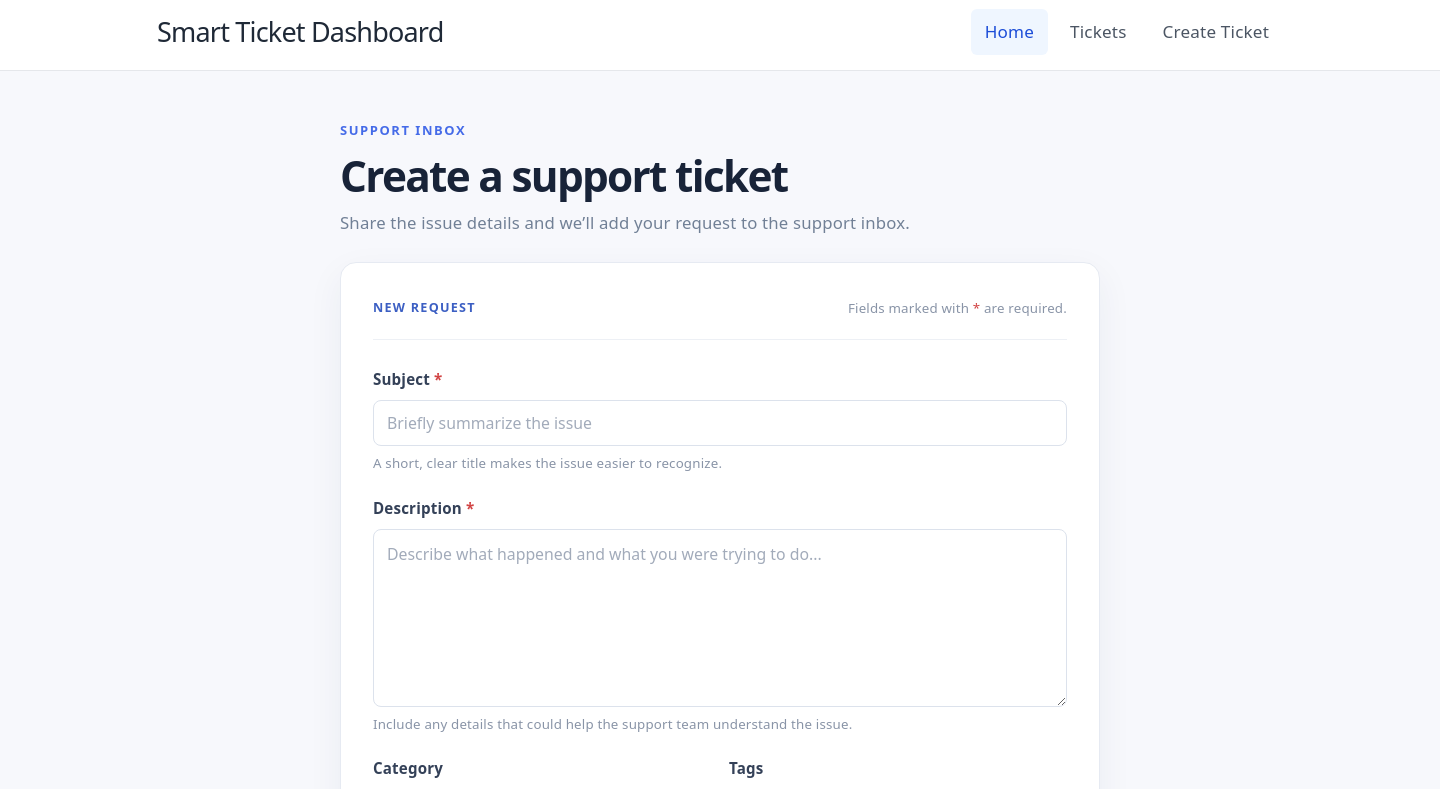
Scenario: TicketForm › shows the API error when ticket creation fails
Type "Login issue" into the field labelled "Subject *".
click(720, 423); type("Login issue")  # box x1=373 y1=400 x2=1067 y2=446
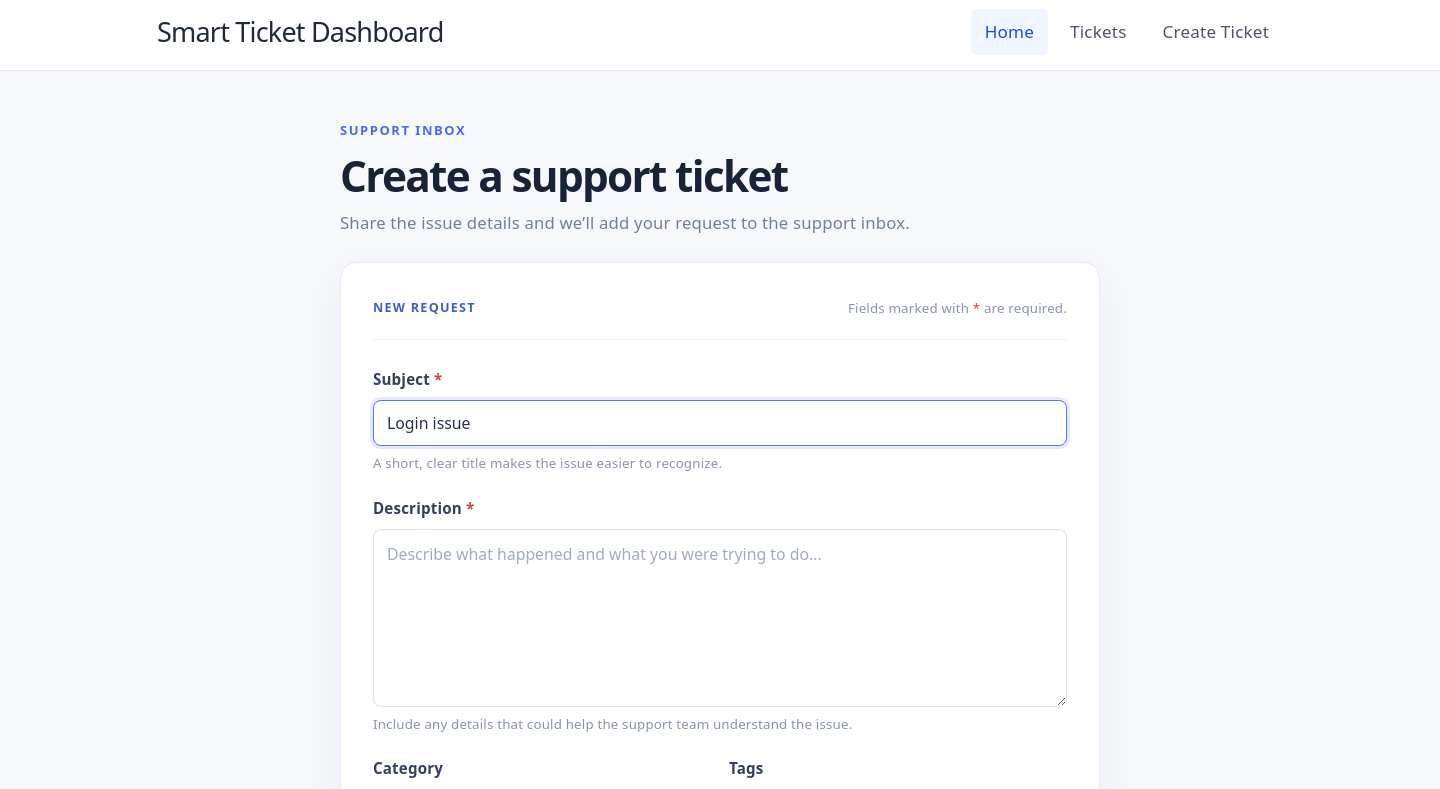
Type "Cannot sign in" into the text box labelled "Description *".
click(720, 618); type("Cannot sign in")  # box x1=373 y1=529 x2=1067 y2=707
(page scrolled)
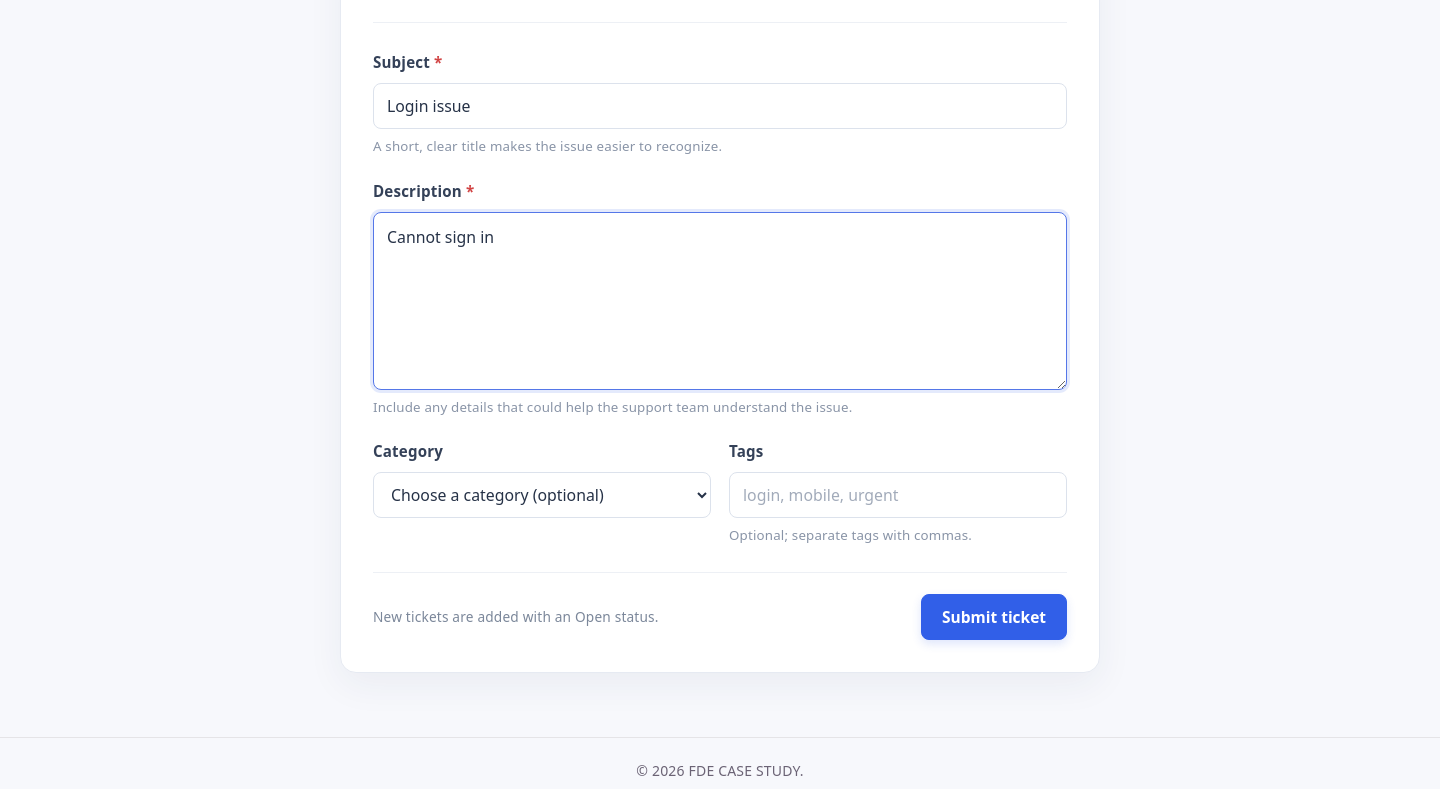
Click the button "Submit ticket".
click(994, 617)  # box x1=921 y1=594 x2=1067 y2=640
(page scrolled)
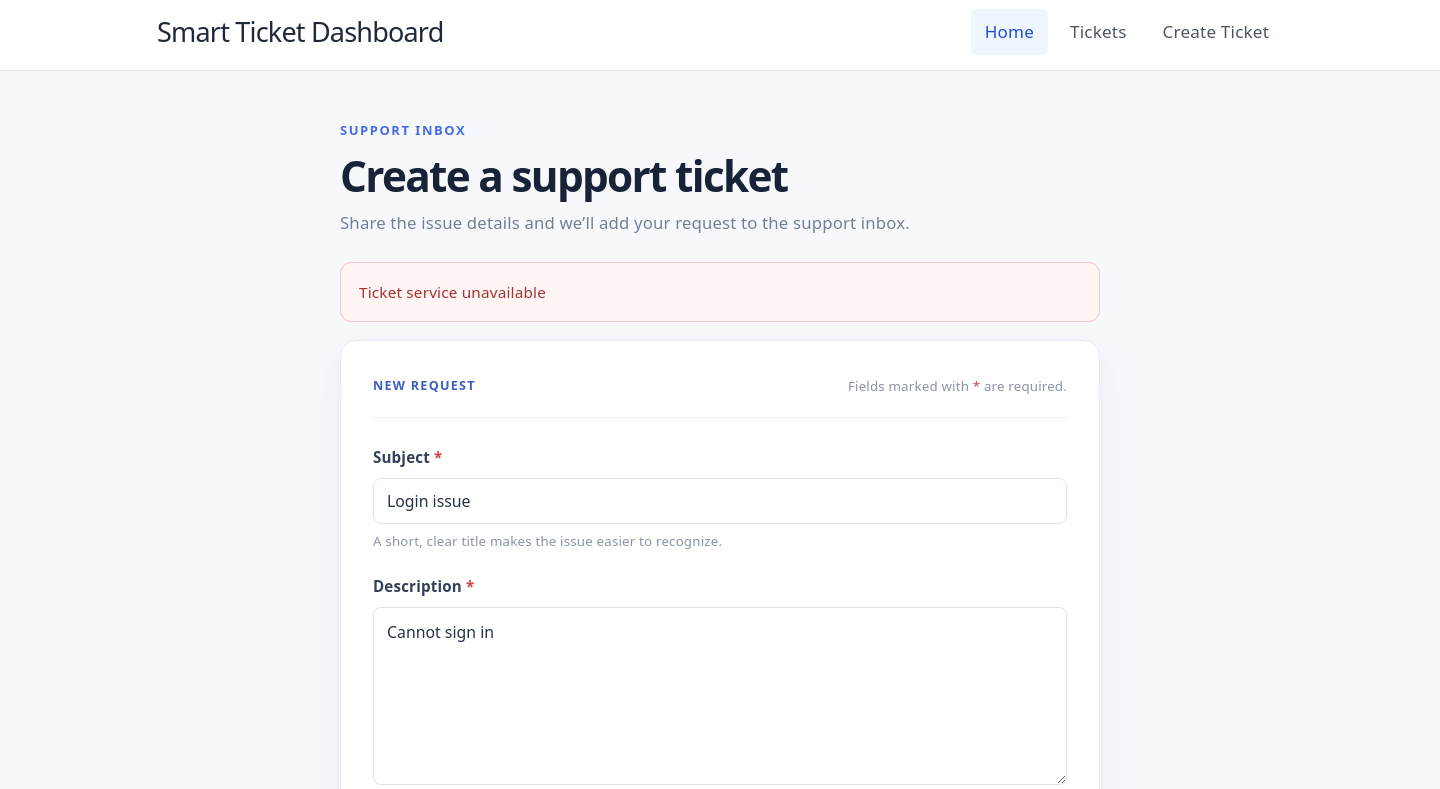
Expected: the message reads "Ticket service unavailable", x1=359 y1=282 x2=546 y2=302
